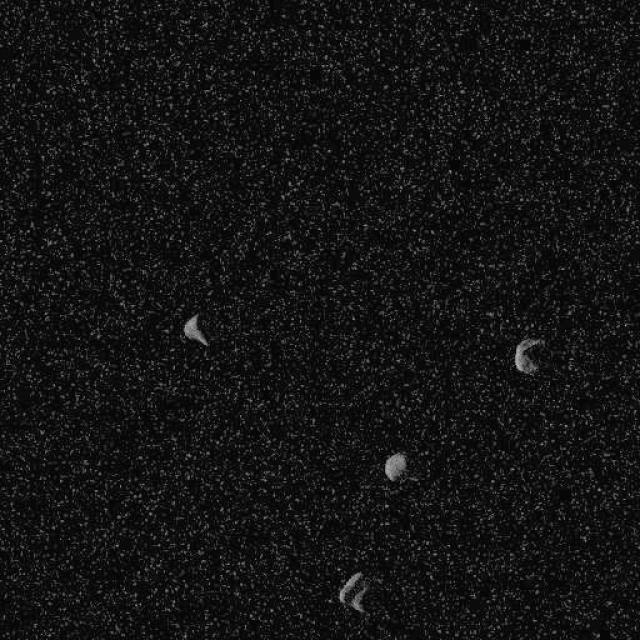D2: (338, 570, 370, 614), (513, 336, 545, 375), (181, 312, 209, 346), (382, 451, 408, 481)
